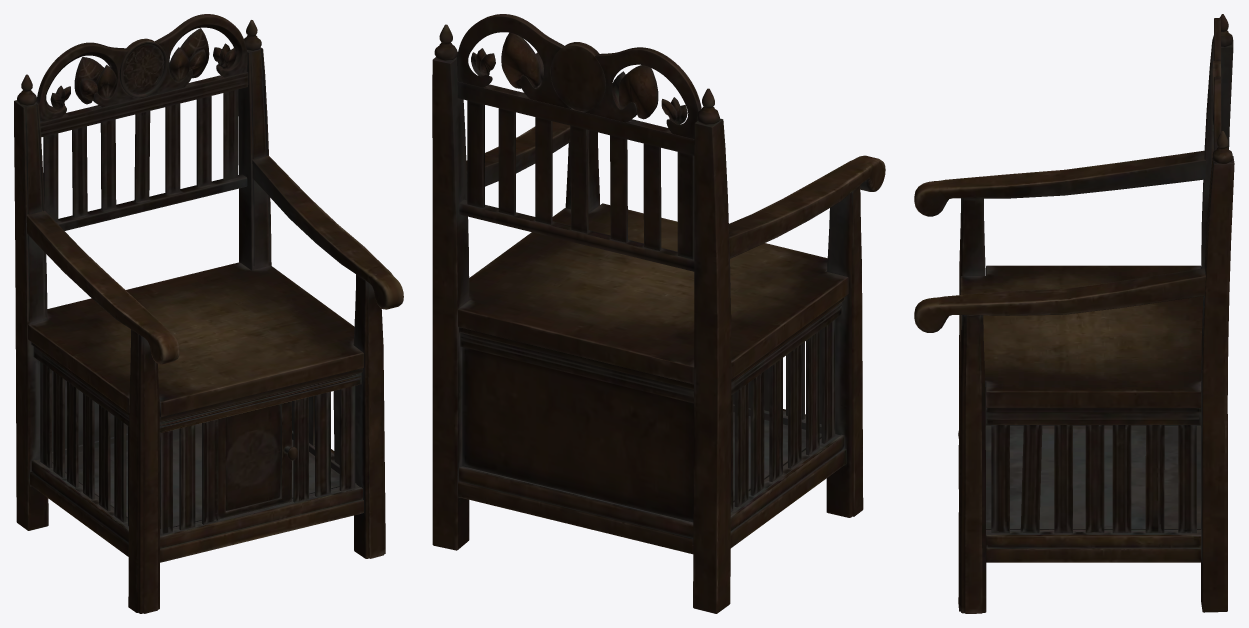
Rendered from gallinera_chair.glb.
3 views of the same model, side by side, from view 1: azimuth 30°, elevation 25°; view 2: azimuth 150°, elevation 25°; view 3: azimuth 270°, elevation 25° (orthographic). The views are drawn at different scales.
Parts seen in each view (by area): view 1: gallinera_chair; view 2: gallinera_chair; view 3: gallinera_chair.
Part boxes in pixels (x1,y1,x2,y2): gallinera_chair: [14, 14, 403, 613]; gallinera_chair: [432, 14, 885, 613]; gallinera_chair: [914, 14, 1234, 613].
Bounding box in the file's own units: 0.5808 × 1.03 × 0.6039.
Materials: 1 (1 with a texture image).
